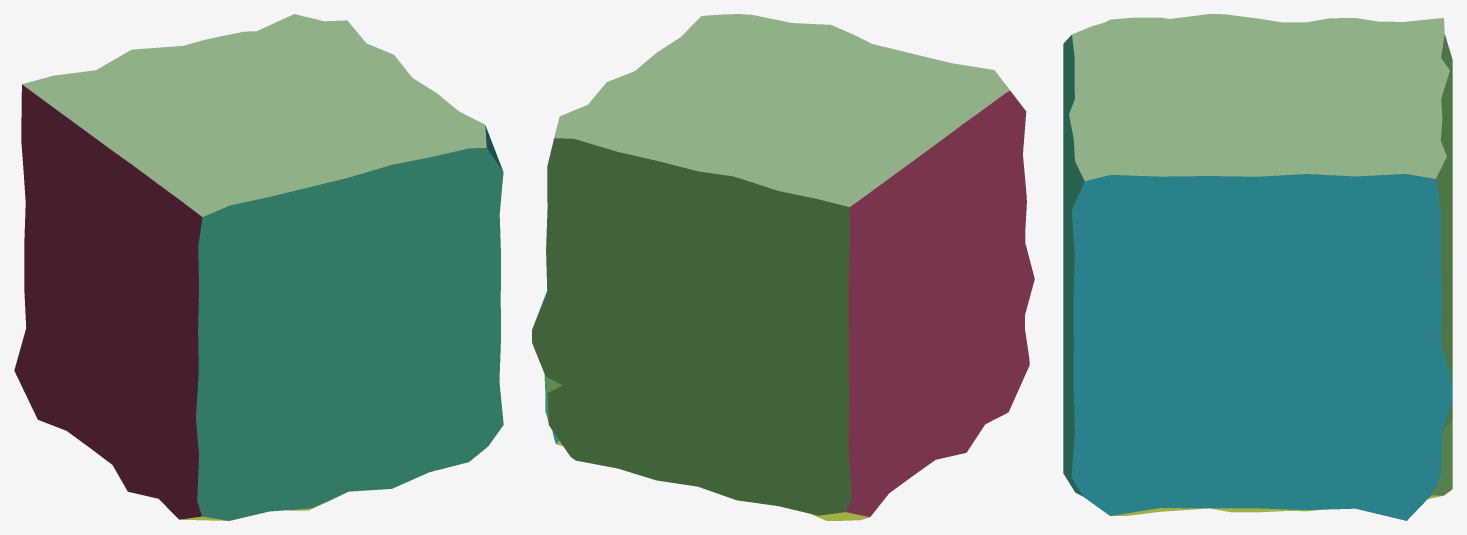
The model's file is WornCube.fbx.
3 renders of one model, left to right at view 1: azimuth 30°, elevation 25°; view 2: azimuth 150°, elevation 25°; view 3: azimuth 270°, elevation 25°, orthographic. The views are drawn at different scales.
Visible parts, largest first — view 1: Cube; view 2: Cube; view 3: Cube.
Boxes of the visible parts, x1,y1,x2,y2 form: Cube: (14,14,503,520); Cube: (532,14,1034,520); Cube: (1063,14,1452,520).
Size of the model in its own units: 200 by 200 by 200.
